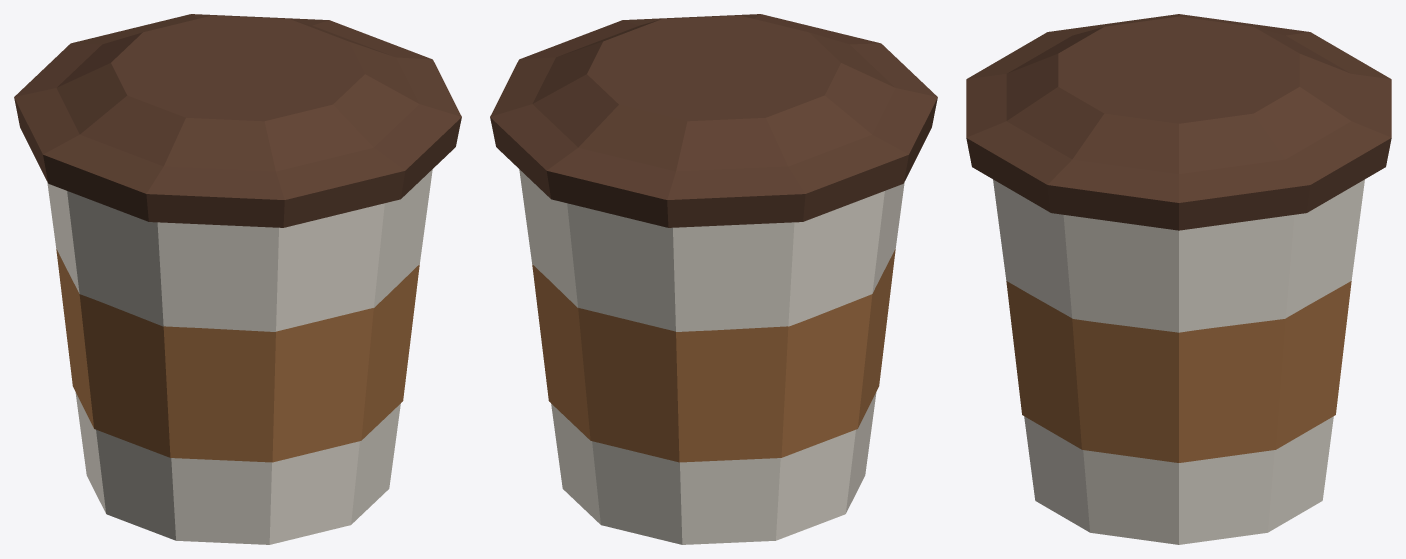
The model's file is Food_Coffee.obj.
The picture shows the model from 3 angles, left to right: view 1: azimuth 30°, elevation 25°; view 2: azimuth 150°, elevation 25°; view 3: azimuth 270°, elevation 25°; orthographic projection.
Size of the model in its own units: 1.48 by 1.5 by 1.41.
